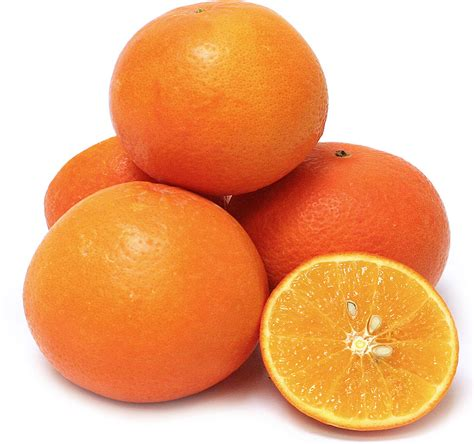orange: (16, 182, 265, 410), (107, 1, 335, 202), (223, 138, 457, 303)
